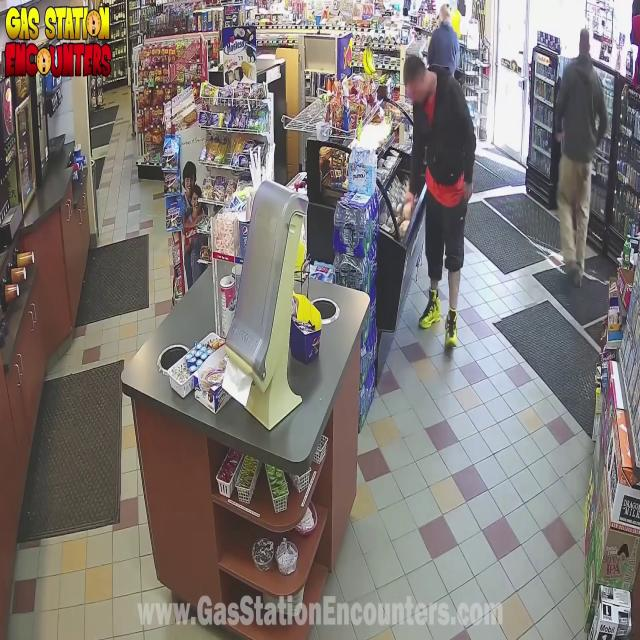normal: (393, 32, 488, 384), (546, 0, 632, 341)
